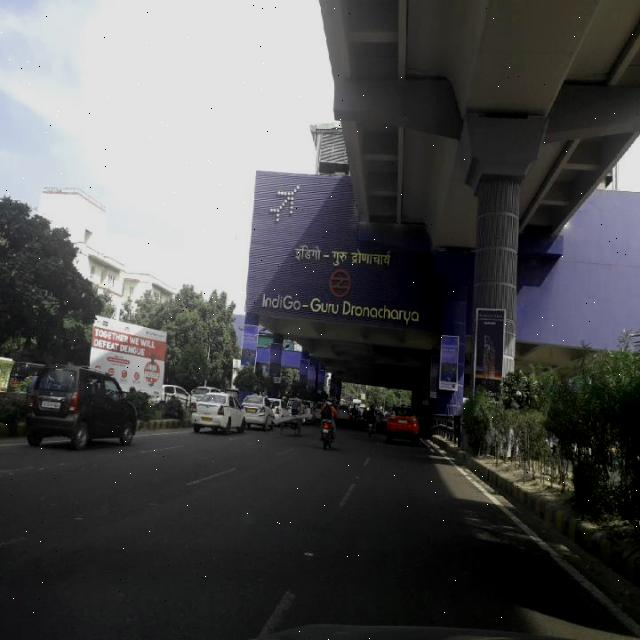D20: (2, 467, 180, 545)
